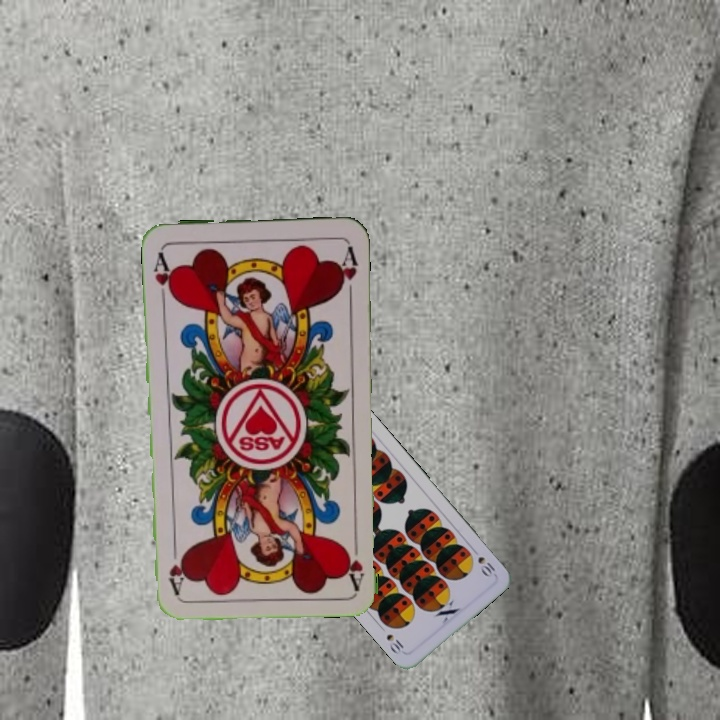HA: (150, 246, 176, 305), (342, 531, 367, 590)
S10: (474, 552, 498, 580)
